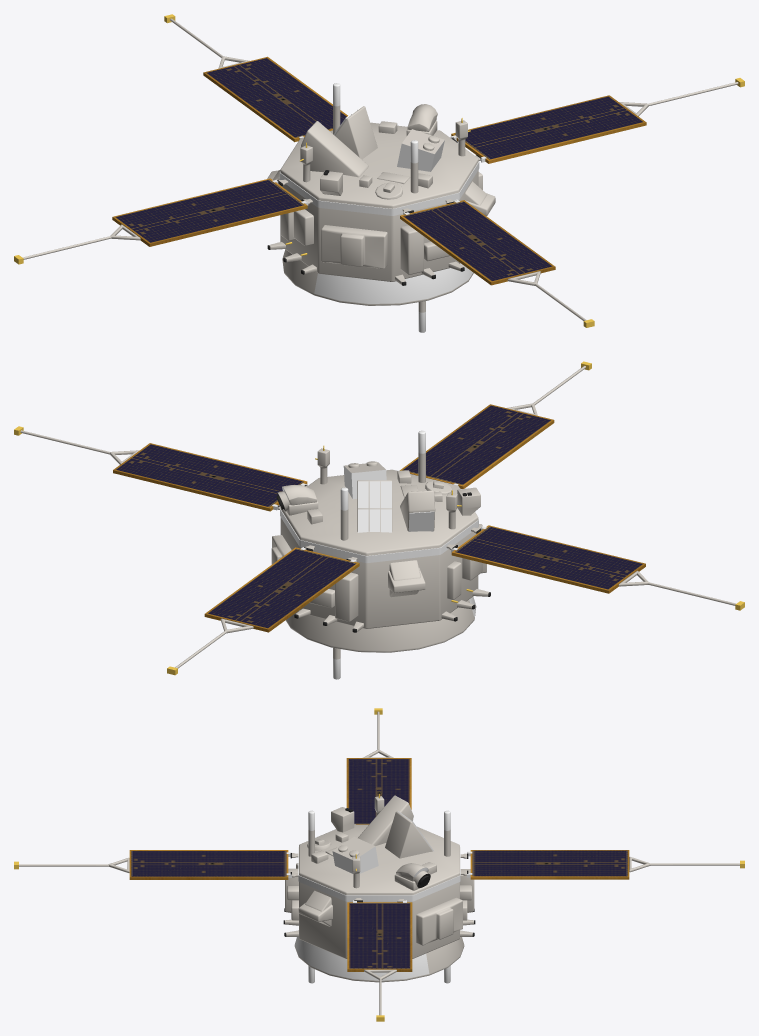
File: original.glb
The picture shows the model from 3 angles, top to bottom: view 1: azimuth 30°, elevation 25°; view 2: azimuth 150°, elevation 25°; view 3: azimuth 270°, elevation 25°; orthographic projection. The views are drawn at different scales.
Visible parts, largest first — view 1: BUS, solar_array, array_brace, SIS; view 2: BUS, solar_array, intrument_metal, array_brace, SIS; view 3: BUS, solar_array, array_brace, SIS.
Boxes of the visible parts, box(x1,y1,x2,y2) form: BUS: box(267, 83, 495, 332); solar_array: box(14, 14, 744, 327); array_brace: box(279, 161, 479, 215); SIS: box(397, 129, 444, 171); BUS: box(271, 430, 490, 679); solar_array: box(14, 361, 744, 675); intrument_metal: box(358, 481, 434, 532); array_brace: box(280, 508, 478, 563); SIS: box(343, 461, 386, 499); BUS: box(283, 795, 475, 983); solar_array: box(14, 708, 744, 1021); array_brace: box(298, 847, 460, 901); SIS: box(332, 836, 378, 873).
Bounding box in the file's own units: 7.41 × 1.87 × 7.41.
Materials: 7 (1 with a texture image).
